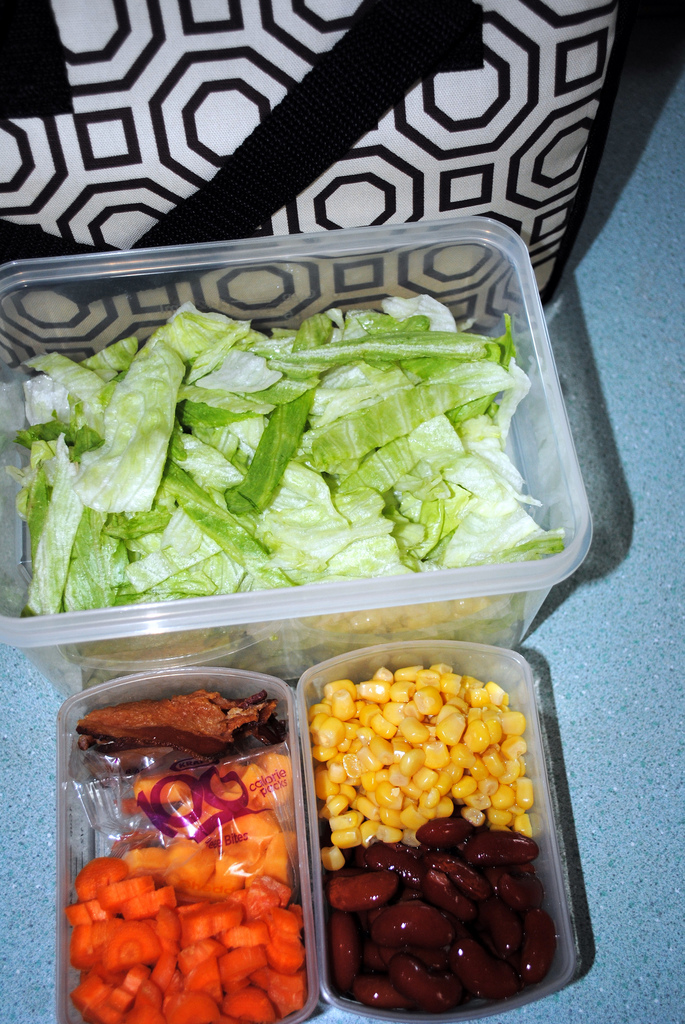chopped lettuce: (21, 298, 564, 584)
